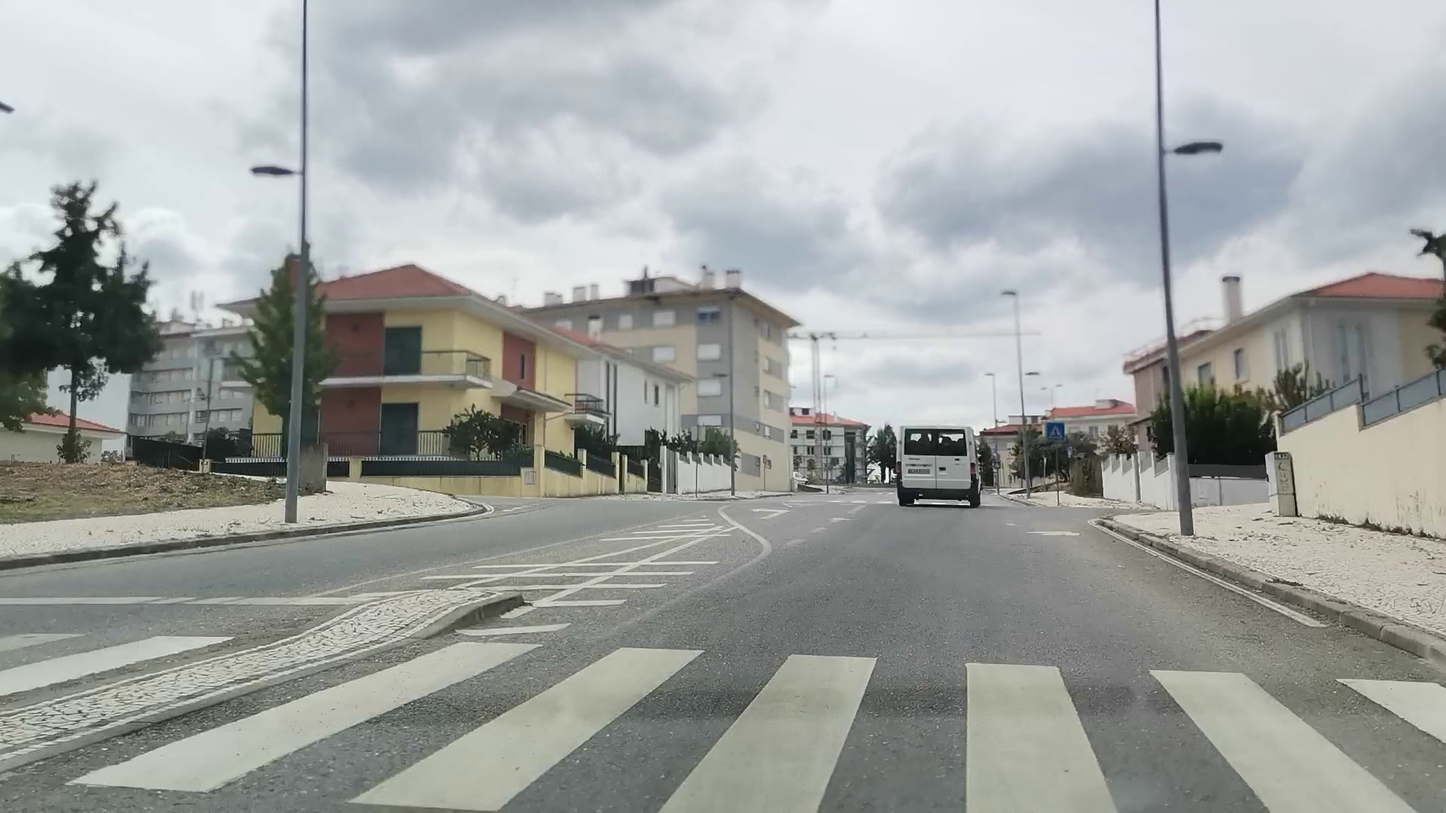Stairs: (67, 636, 1446, 813)
